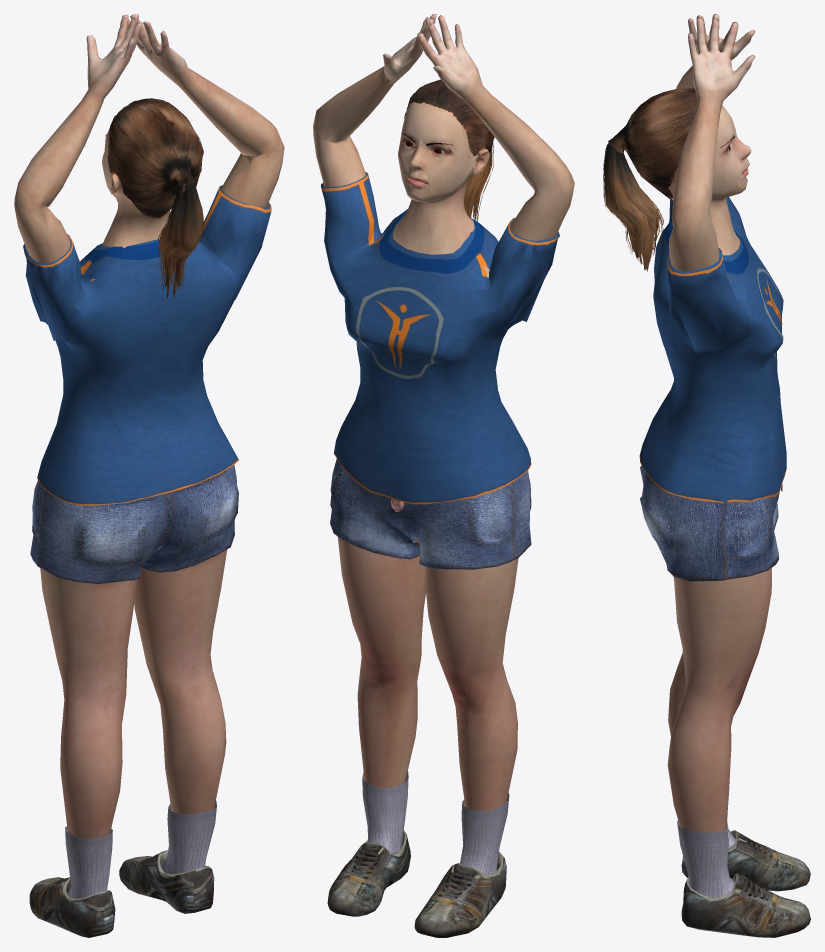
File: exasperated_2.gltf
3 views of the same model, side by side, from view 1: azimuth 30°, elevation 25°; view 2: azimuth 150°, elevation 25°; view 3: azimuth 270°, elevation 25° (orthographic). The views are drawn at different scales.
Parts seen in each view (by area): view 1: exasperated; view 2: exasperated; view 3: exasperated.
Boxes of the visible parts, x1,y1,x2,y2 form: exasperated: (14,14,284,937); exasperated: (313,14,574,937); exasperated: (603,14,810,937).
Bounding box in the file's own units: 0.4947 × 1.62 × 0.343.
6 materials, 6 textured.
